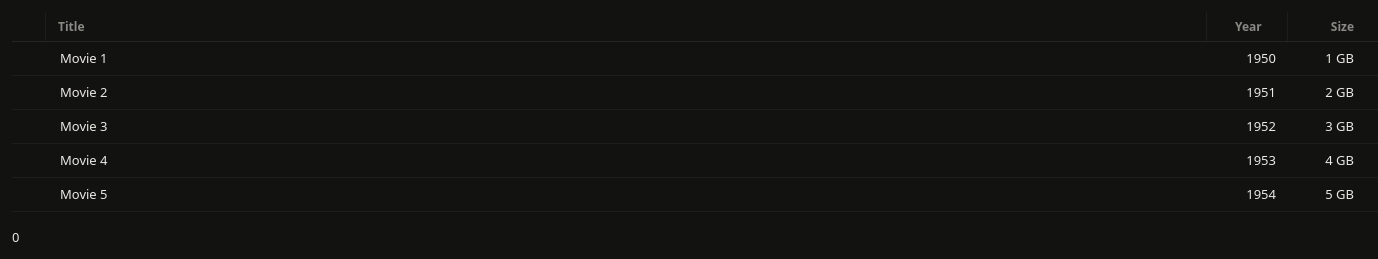
it: Table › keeps a sortable column wide enough for its label and arrow, and reserves the arrow's place
The image size is (1378, 259).
What coordinates should you click on to do the following:
click the button "Year"
I would click on:
 (1247, 26)
Its box is [1207,12,1287,41].
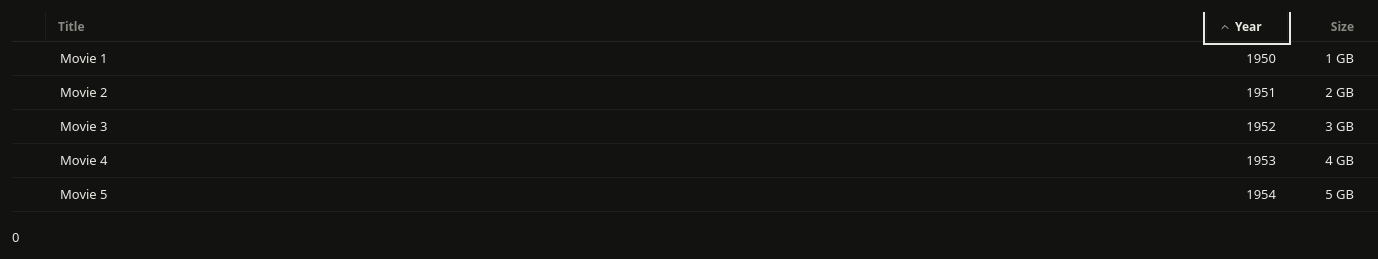
Expected: the icon is shown, [1219,20,1231,32]
